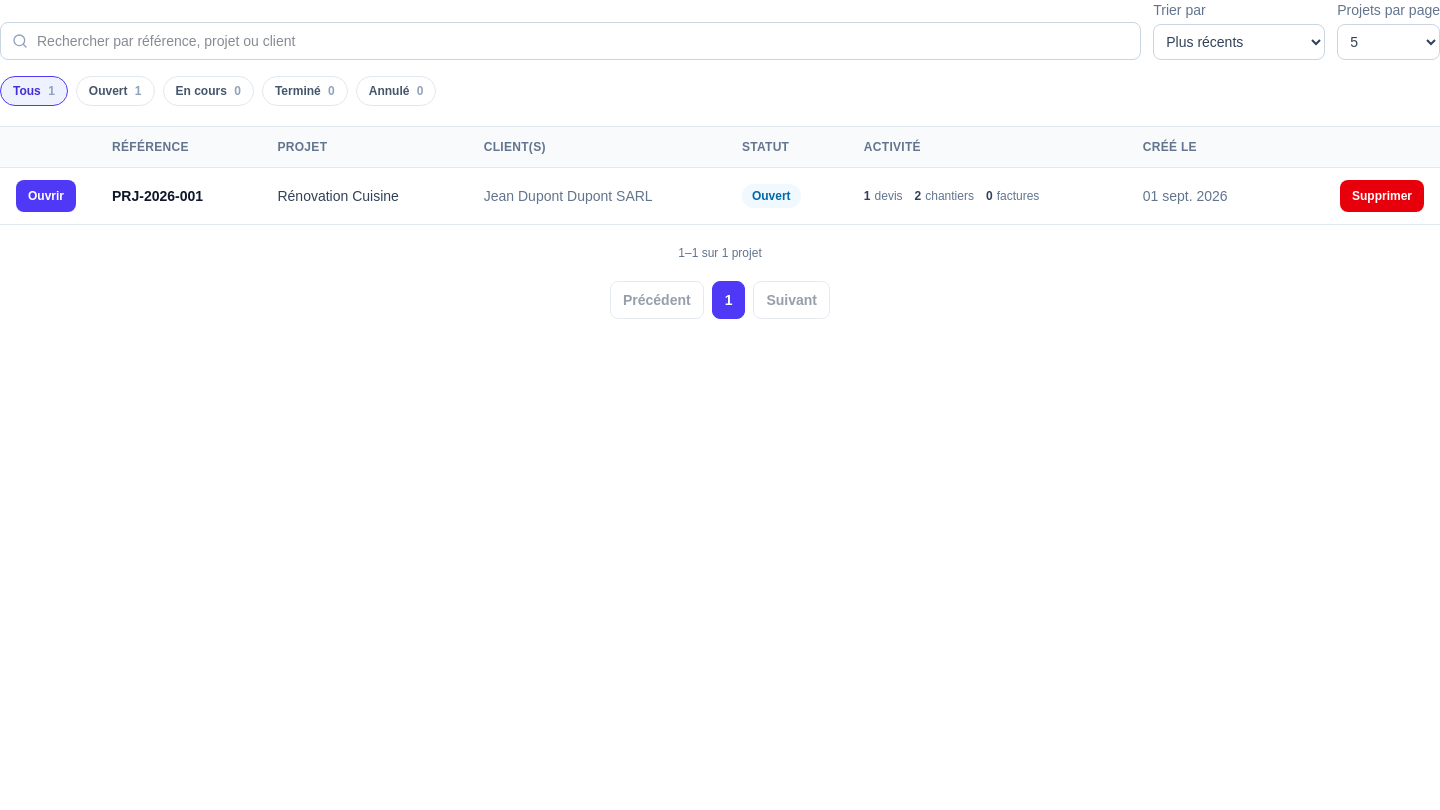
Scenario: ProjectsList › closes the deletion dialog with Escape and reports deletion errors in the dialog
Click the button with aria-label "Supprimer le projet PRJ-2026-001" at (1382, 196), box [1340,180,1424,212]
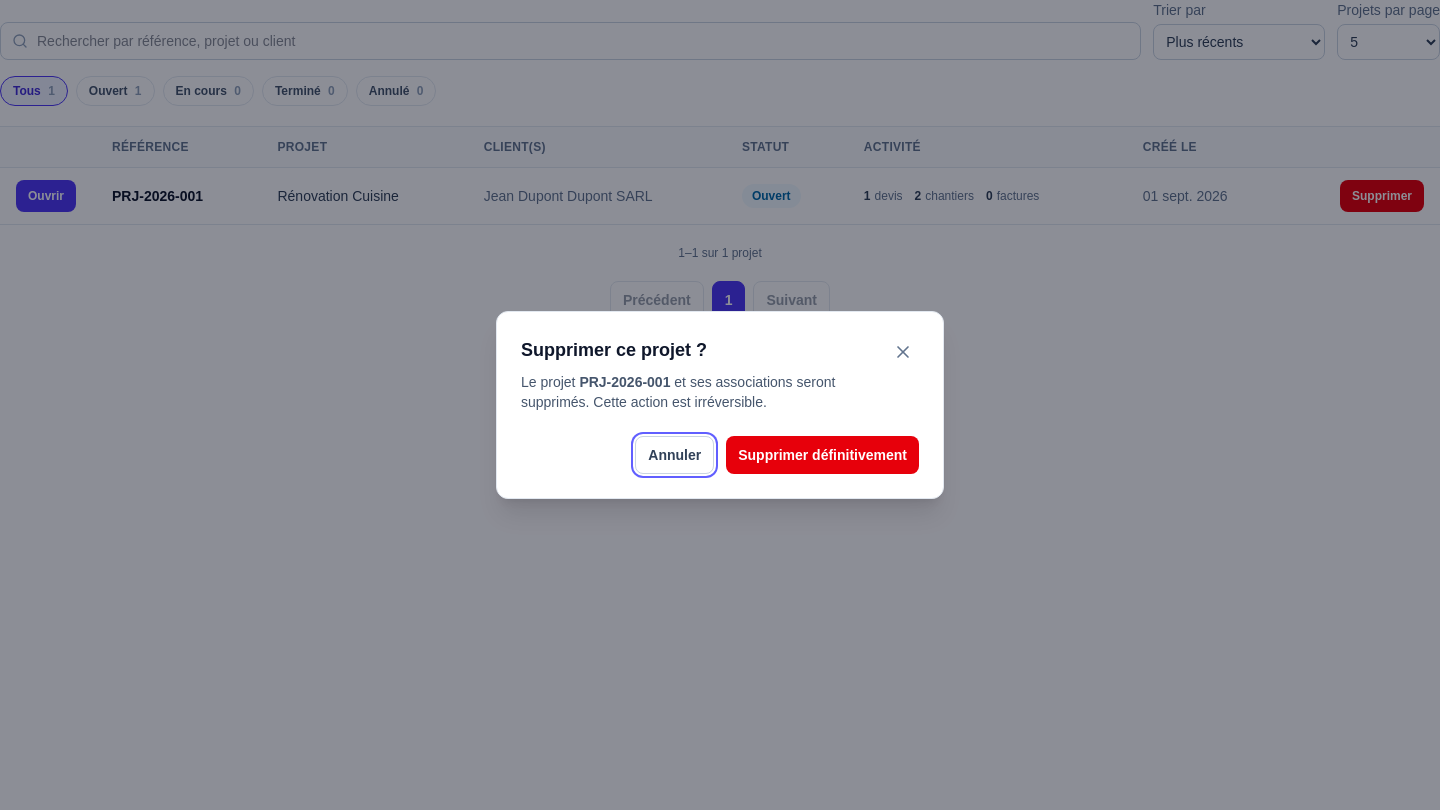
Press Escape
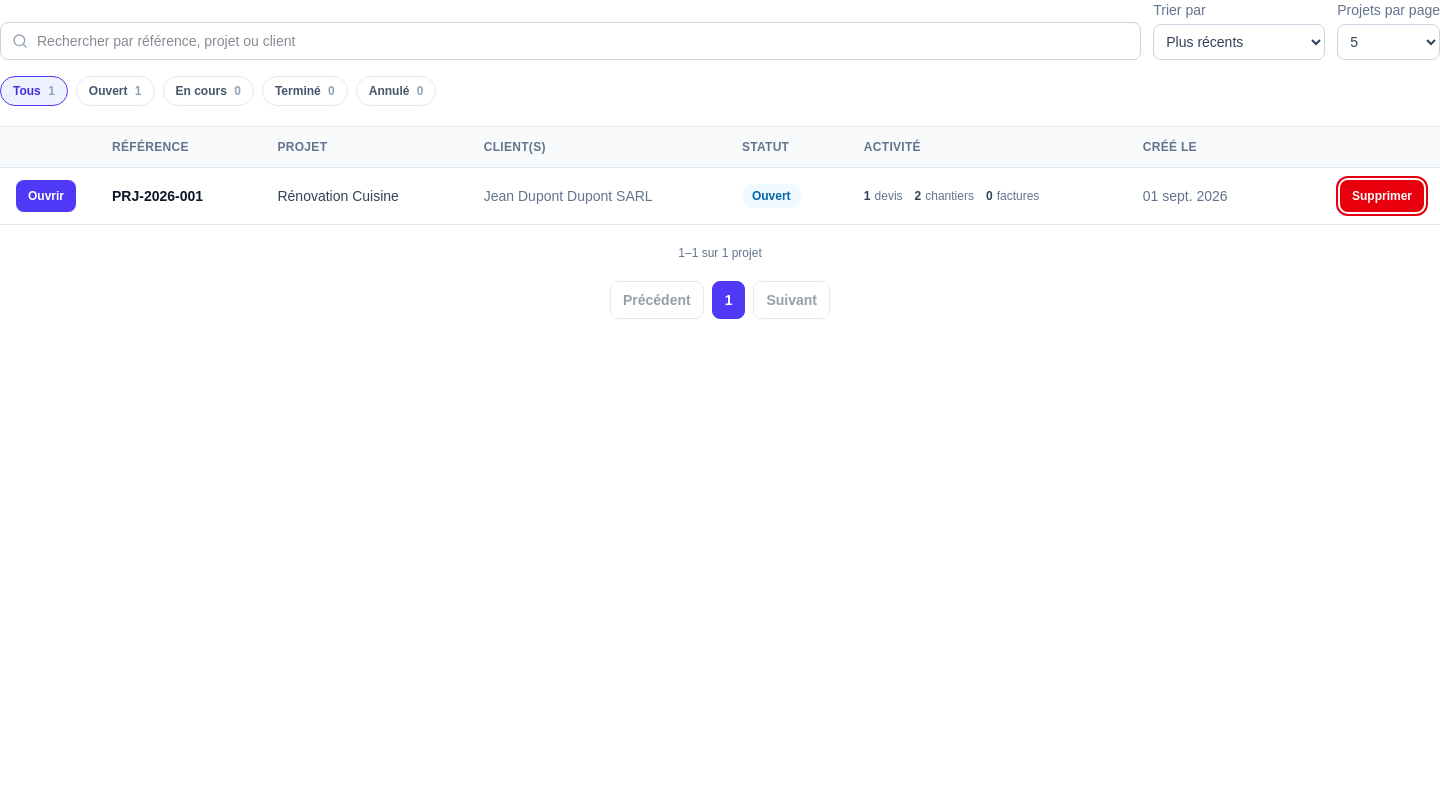
Expected: the heading "Supprimer ce projet ?" is gone
Click the button with aria-label "Supprimer le projet PRJ-2026-001" at (1382, 196), box [1340,180,1424,212]
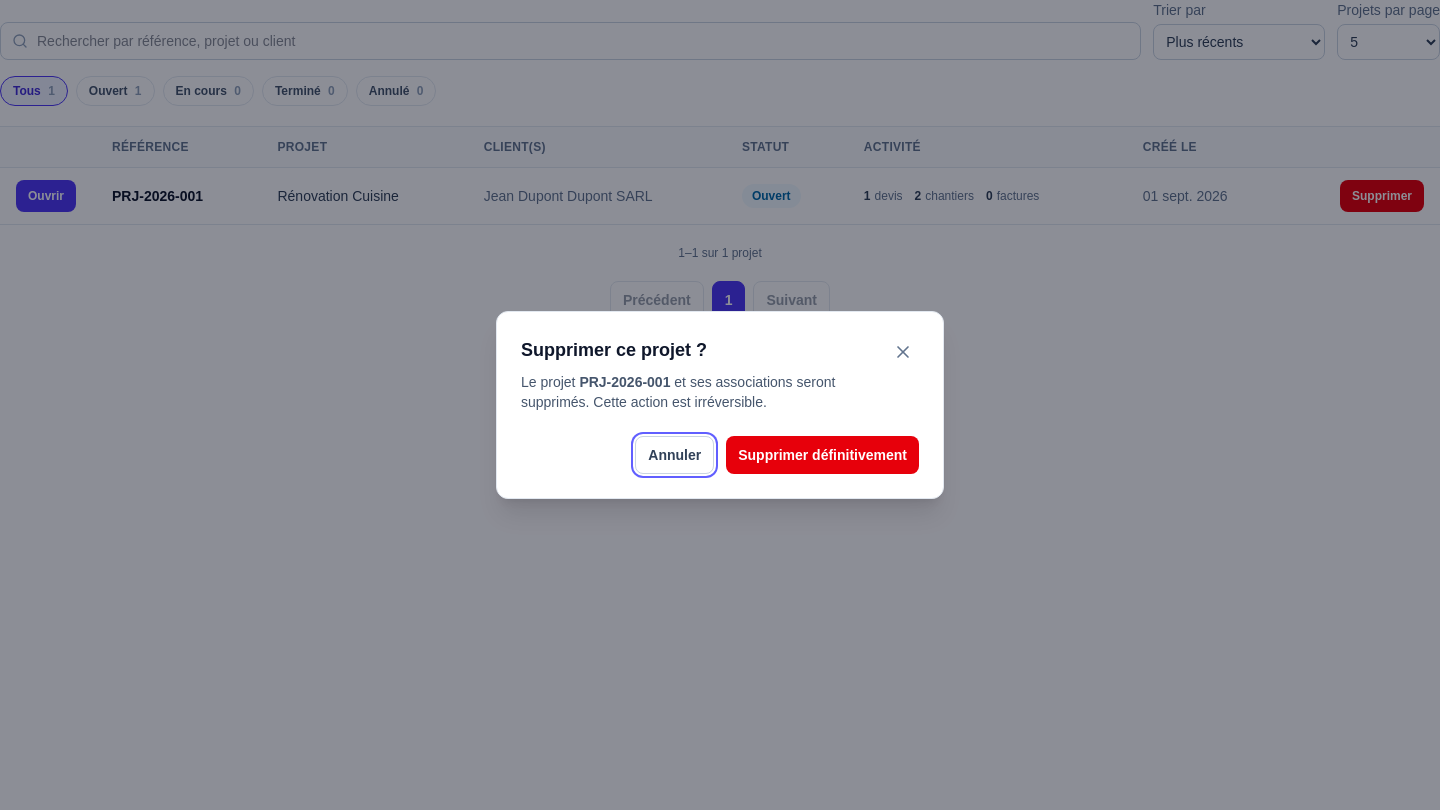
Click the button "Supprimer définitivement" at (823, 455), box [726,436,919,474]
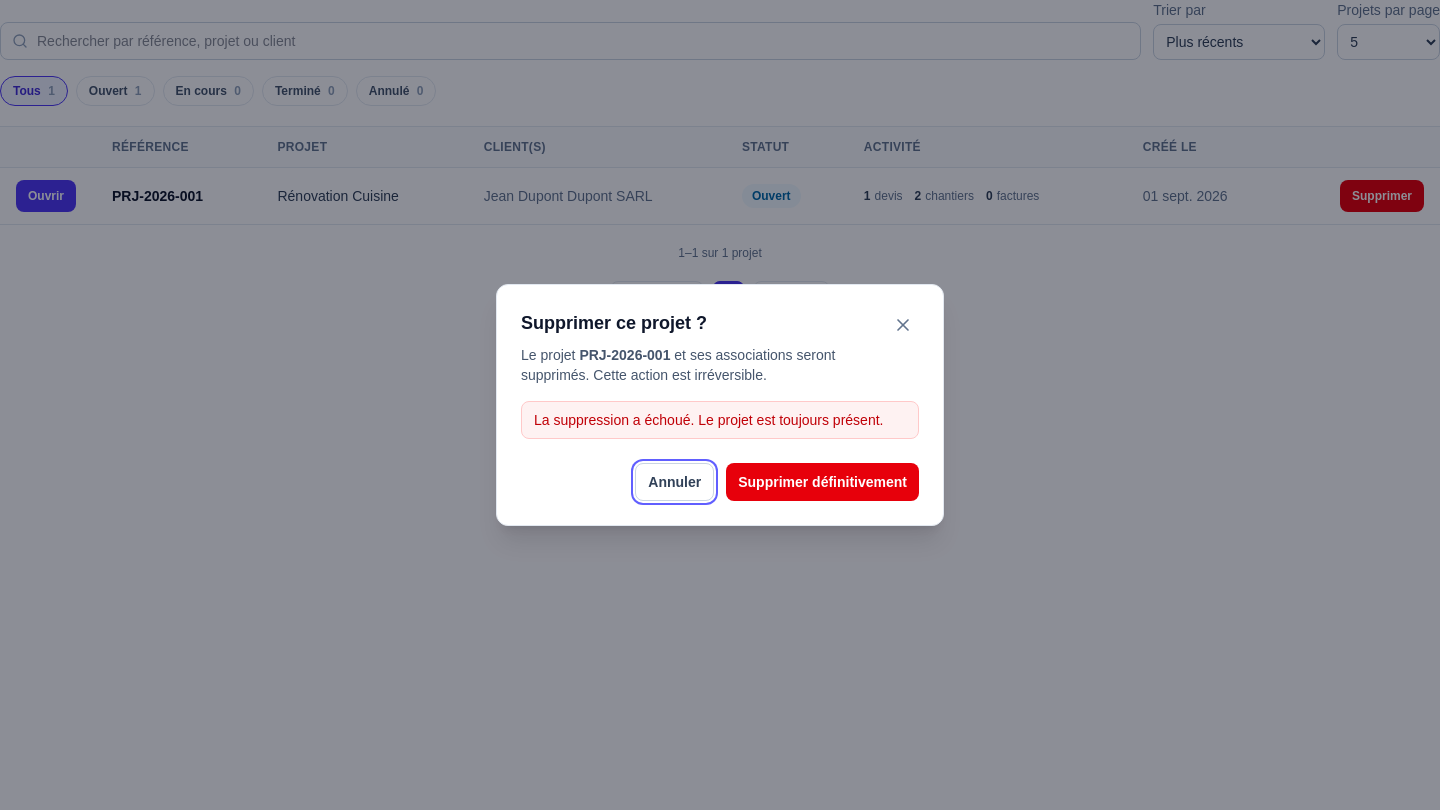
Expected: the dialog "Supprimer ce projet ?" is shown, [496,284,944,526]
Expected: the message shows "La suppression a échoué", [534,412,884,428]
